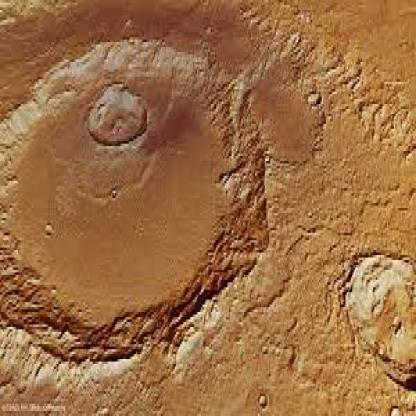craters: (0, 44, 286, 379), (341, 223, 415, 413), (78, 79, 152, 151), (276, 342, 304, 374), (304, 84, 327, 114), (250, 379, 270, 411)
